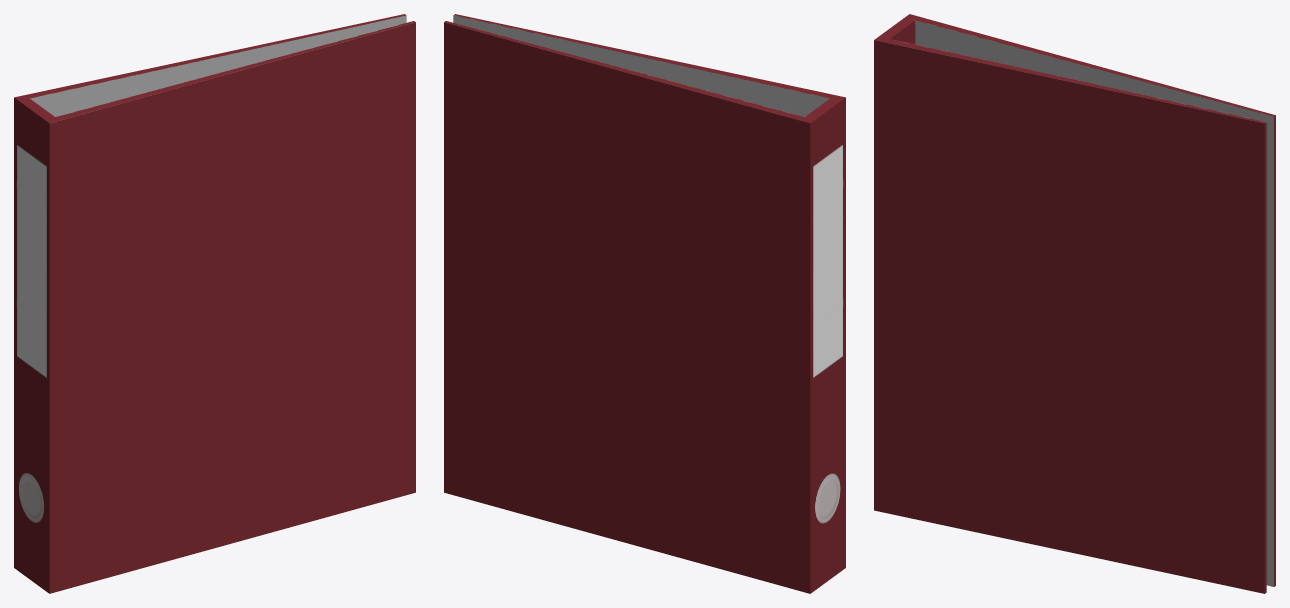
File: ArchFolderRed.fbx
3 renders of one model, left to right at view 1: azimuth 30°, elevation 25°; view 2: azimuth 150°, elevation 25°; view 3: azimuth 330°, elevation 25°, orthographic.
Visible parts, largest first — view 1: Arch Folder Red; view 2: Arch Folder Red; view 3: Arch Folder Red.
Part boxes in pixels (box(x1,y1,x2,y2)): Arch Folder Red: box(14, 14, 415, 593); Arch Folder Red: box(444, 14, 845, 593); Arch Folder Red: box(874, 14, 1275, 593).
Size of the model in its own units: 13.69 by 16.27 by 2.23.
Materials: 1 (1 with a texture image).
